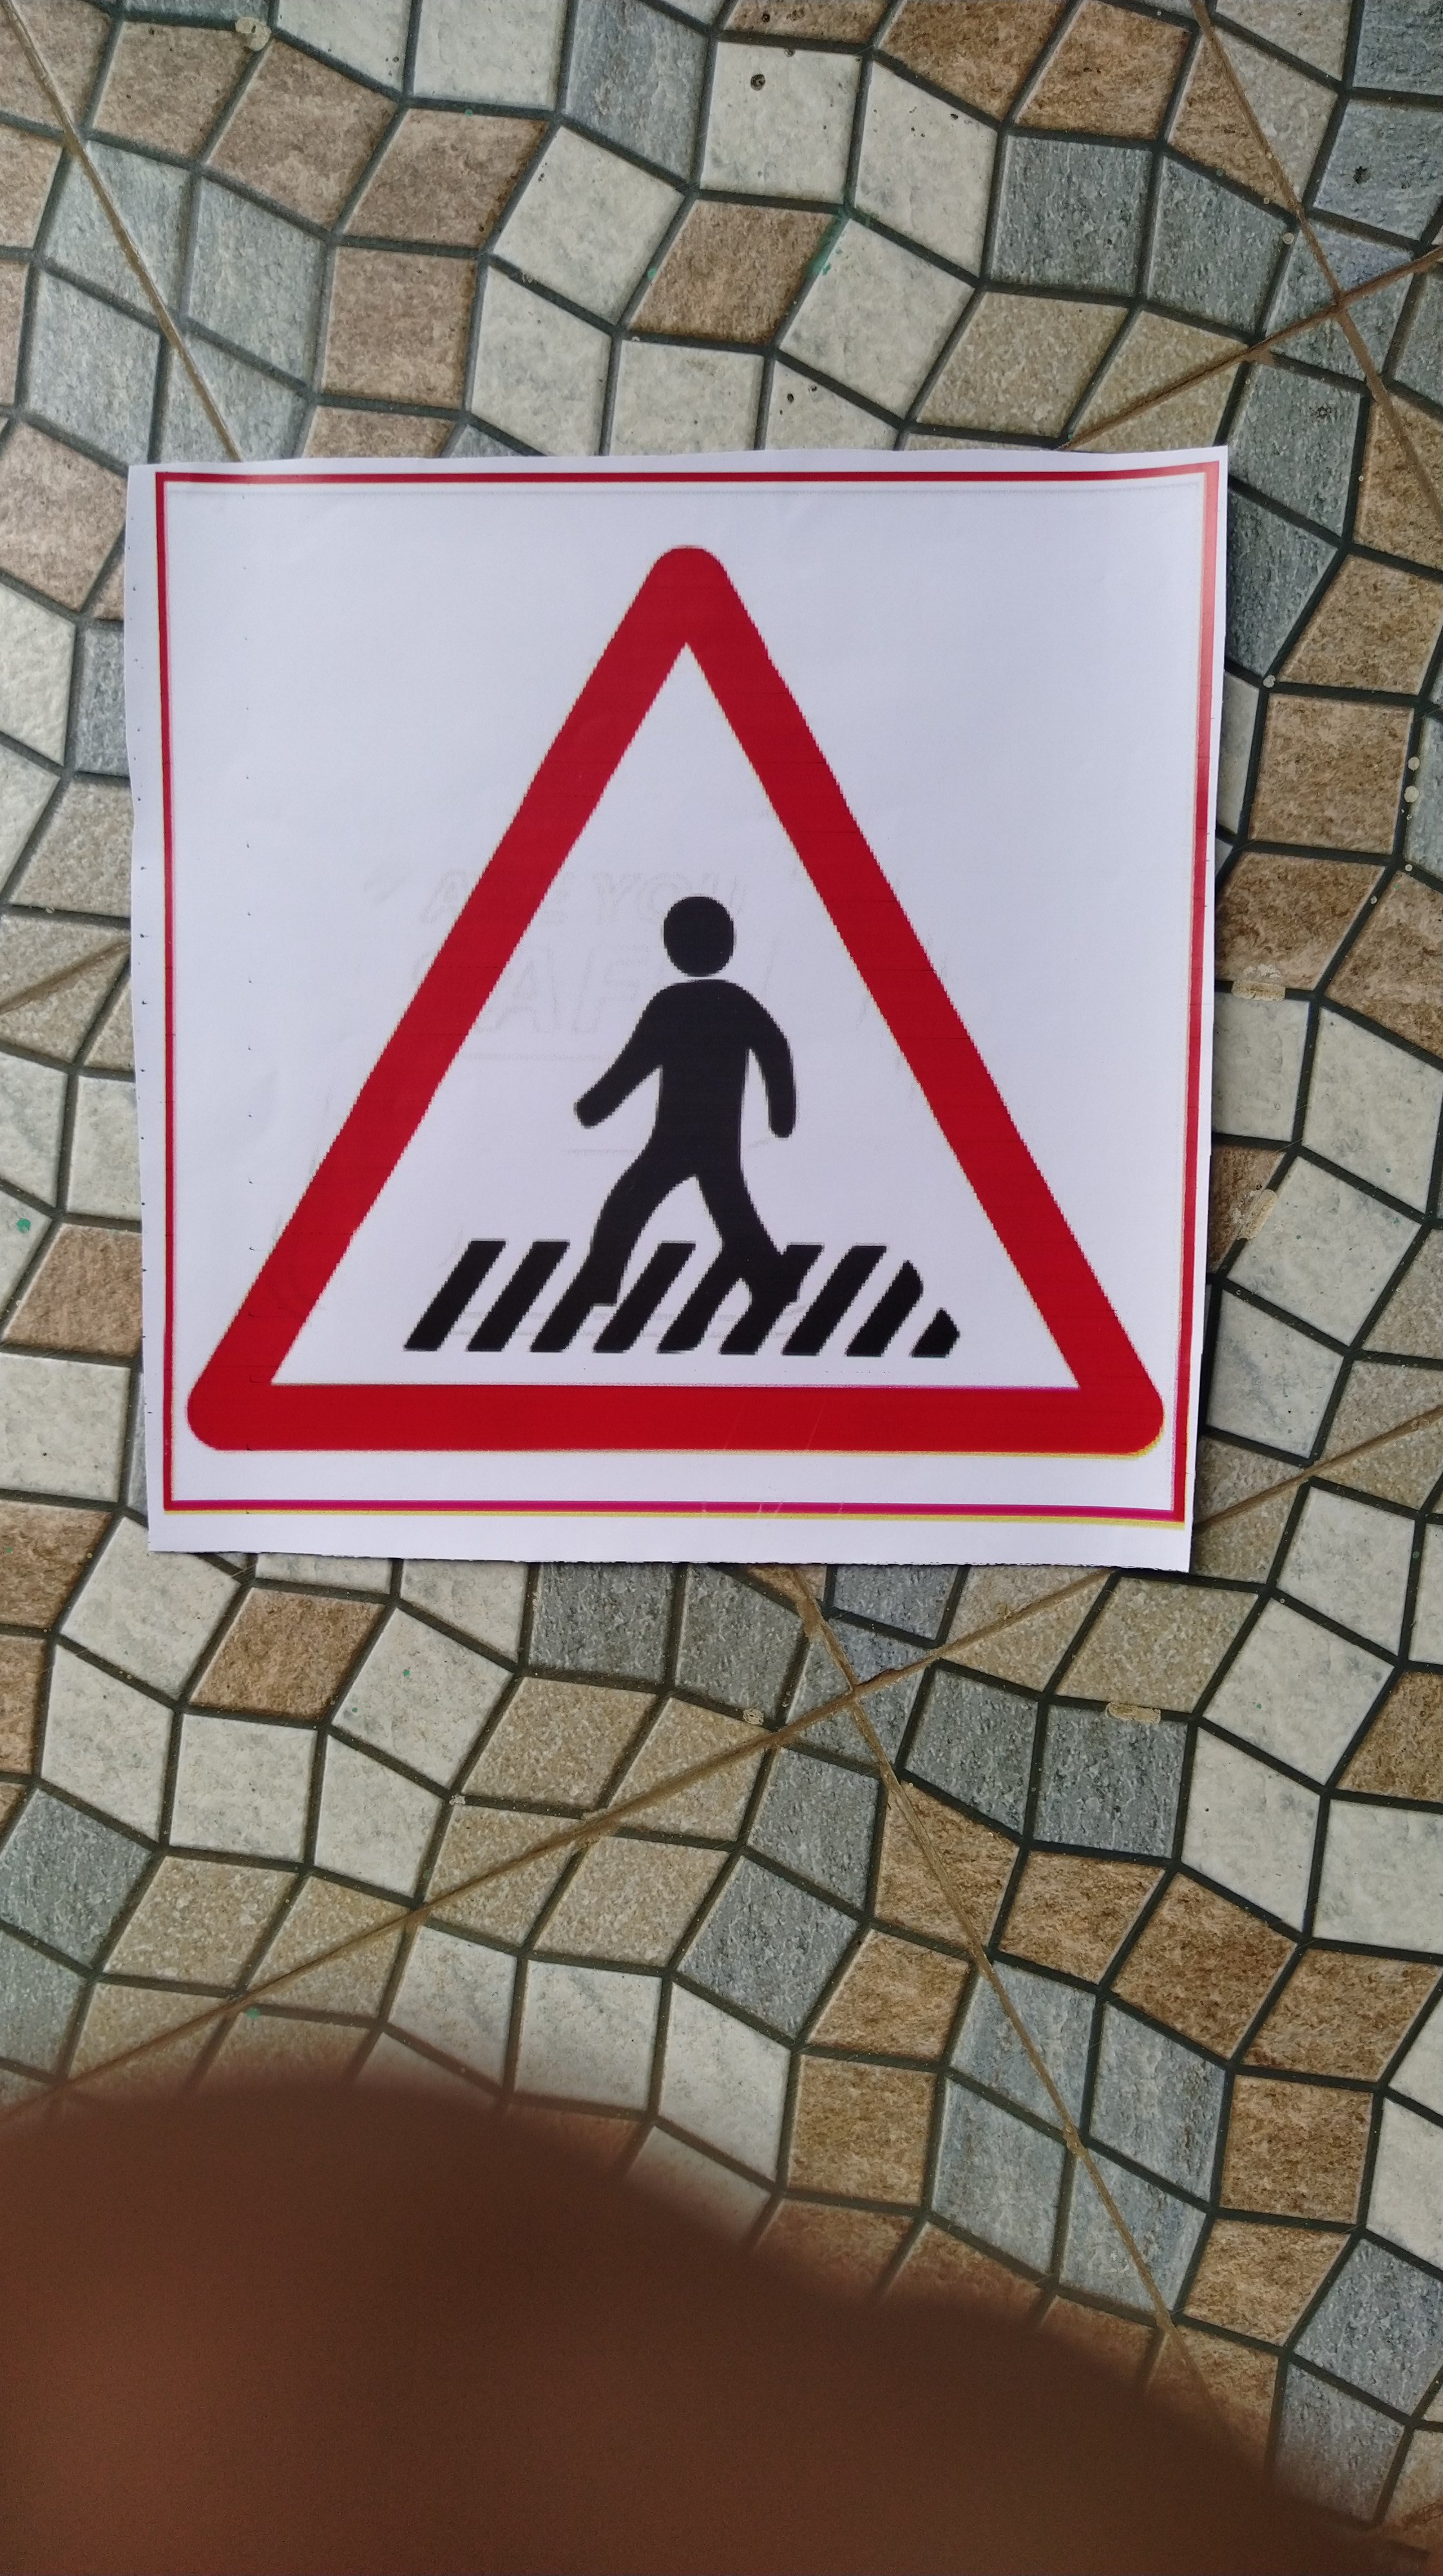pedestrain crossing: (154, 487, 1176, 1525)
